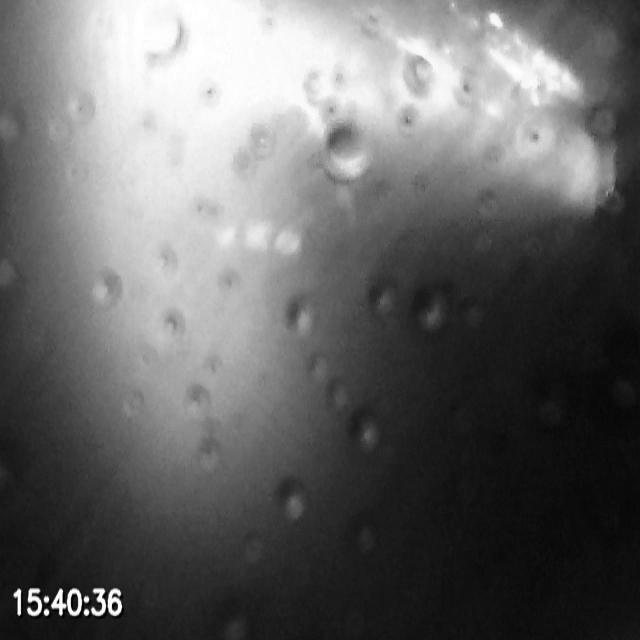white-dots: (213, 219, 304, 256)
